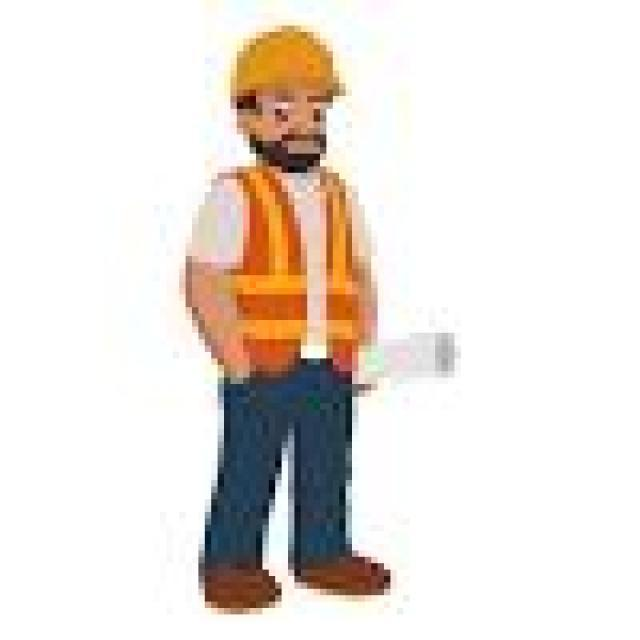reflective_jacket: (185, 153, 371, 390)
safety_helmet: (204, 12, 358, 115)
